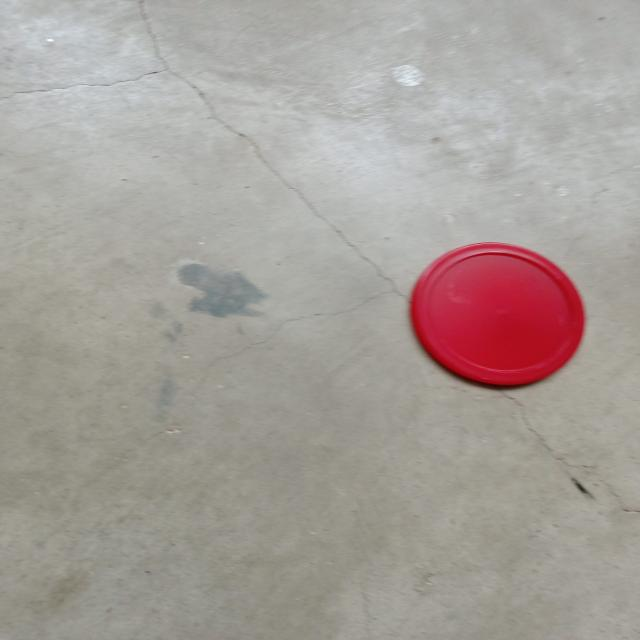chip: (408, 240, 588, 386)
